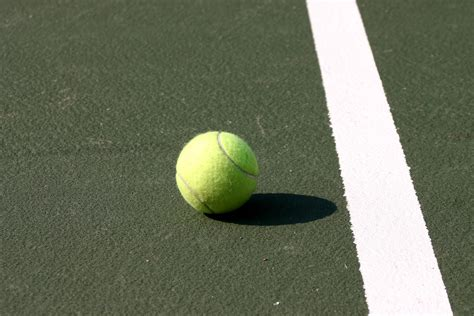tennis_ball: (174, 129, 259, 214)
